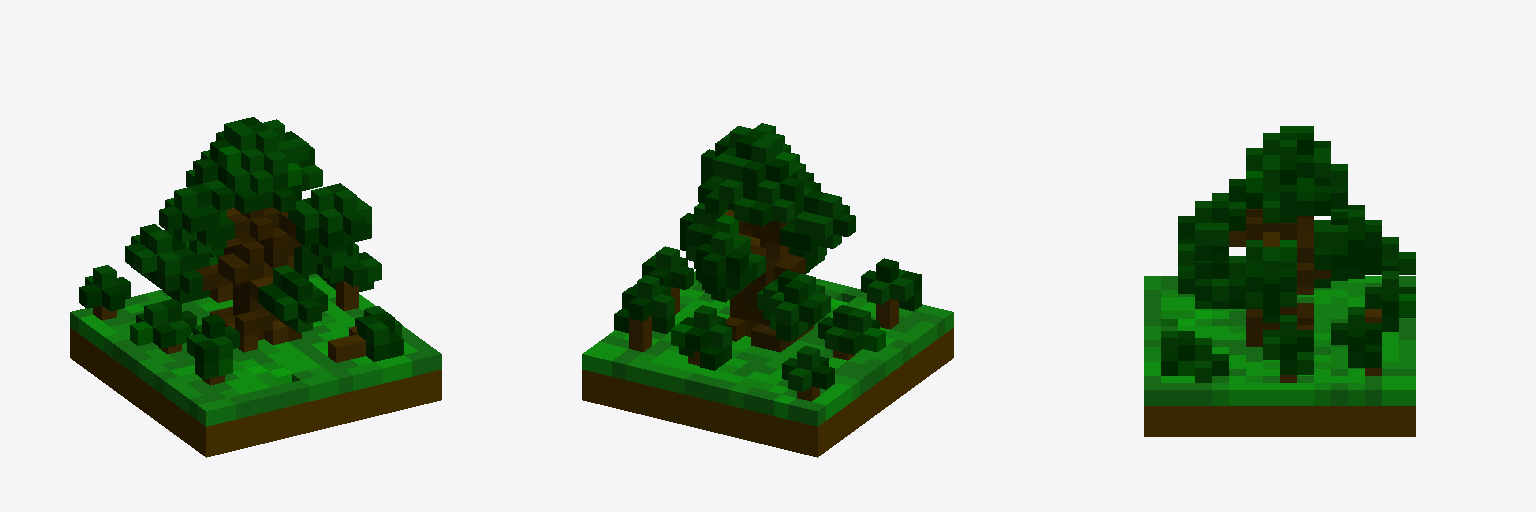
The picture shows the model from 3 angles: view 1: azimuth 30°, elevation 25°; view 2: azimuth 150°, elevation 25°; view 3: azimuth 270°, elevation 25°; orthographic projection.
Parts seen in each view (by area): view 1: Matrix_46; view 2: Matrix_46; view 3: Matrix_46.
Part boxes in pixels (bbox=[...]): Matrix_46: bbox=[70, 117, 441, 457]; Matrix_46: bbox=[582, 123, 953, 457]; Matrix_46: bbox=[1144, 126, 1415, 436].
Size of the model in its own units: 16 by 16 by 16.
Materials: 1 (1 with a texture image).